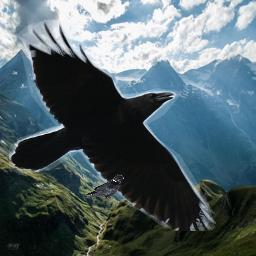Crow: (9, 18, 216, 231), (83, 174, 124, 203)
